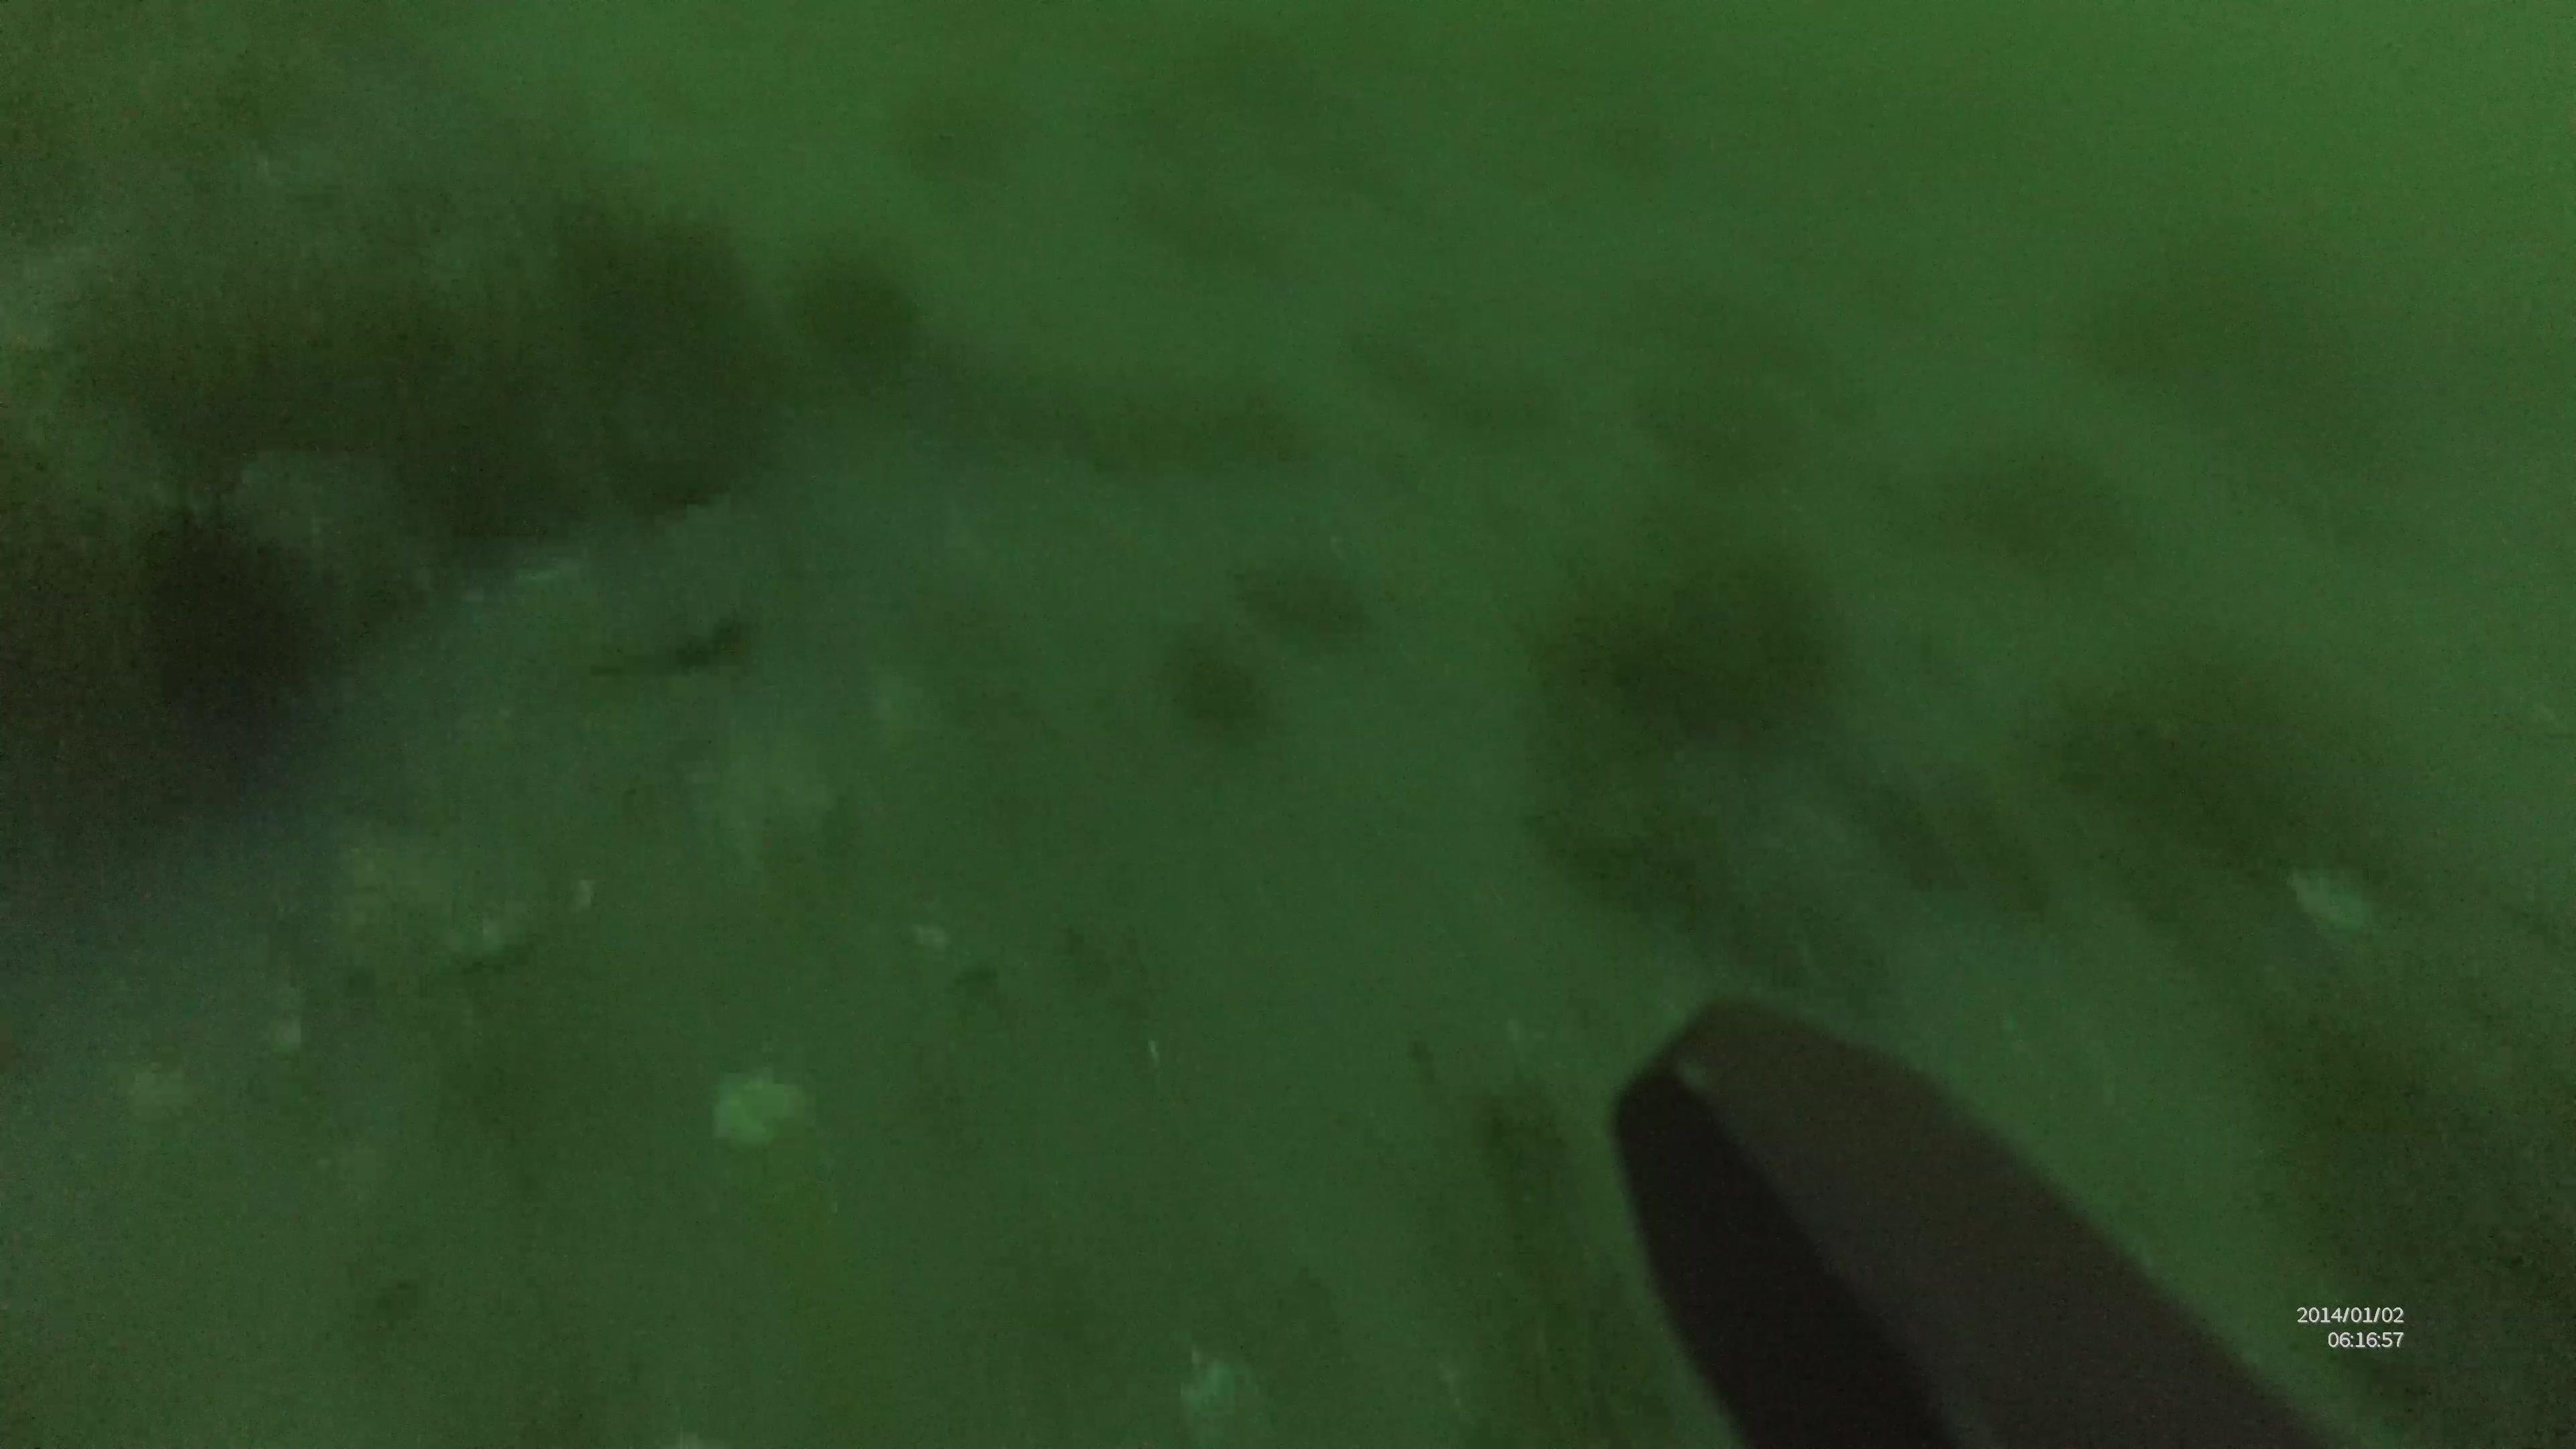echinus: (136, 513, 327, 725)
